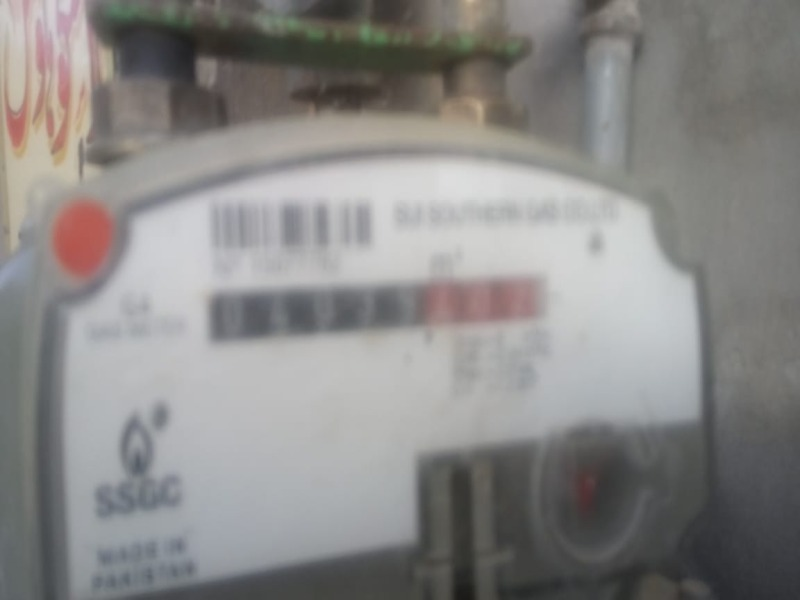ssgc: (200, 273, 547, 337)
